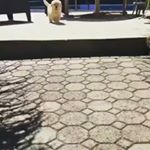puppy: (42, 1, 66, 28)
